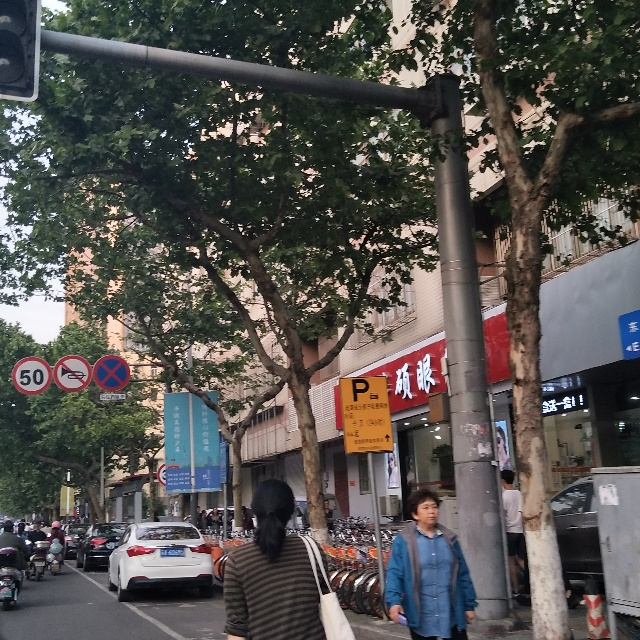nohonk: (53, 354, 92, 396)
stop: (94, 354, 130, 397)
